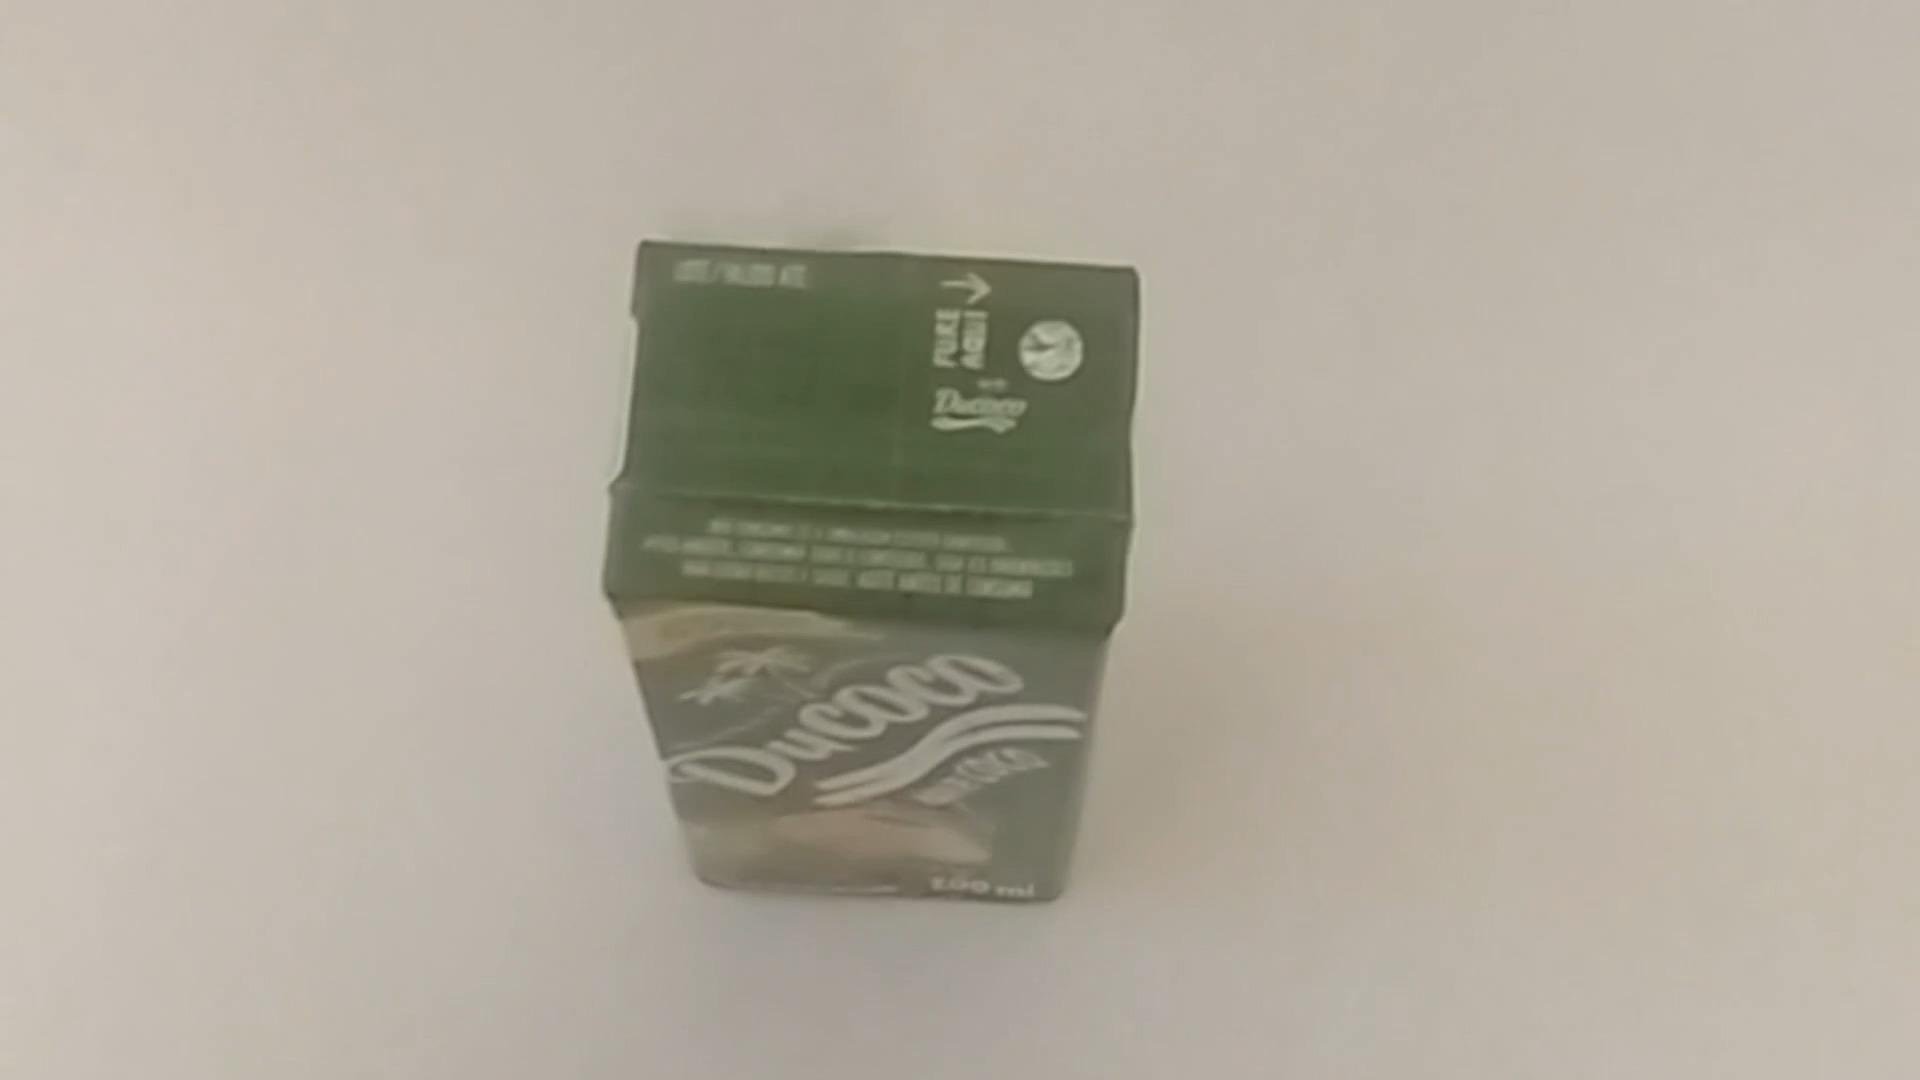coco: (603, 240, 1138, 910)
